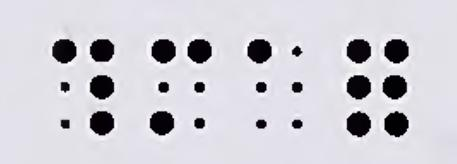letter_a: (247, 39, 303, 129)
letter_m: (150, 39, 212, 135)
one_cell_part_word_mahal: (346, 39, 409, 137)
one_cell_part_word_pag: (52, 39, 115, 136)
